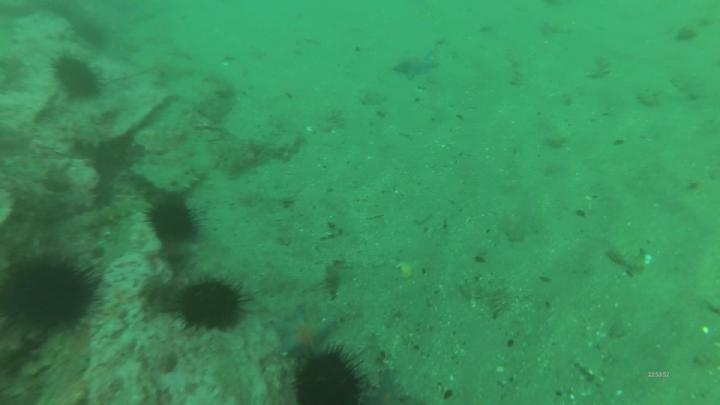echinus: (11, 267, 93, 320), (301, 357, 359, 405), (183, 284, 238, 331), (150, 201, 195, 240), (54, 60, 98, 93)
starfish: (272, 310, 330, 358), (399, 49, 436, 79)
